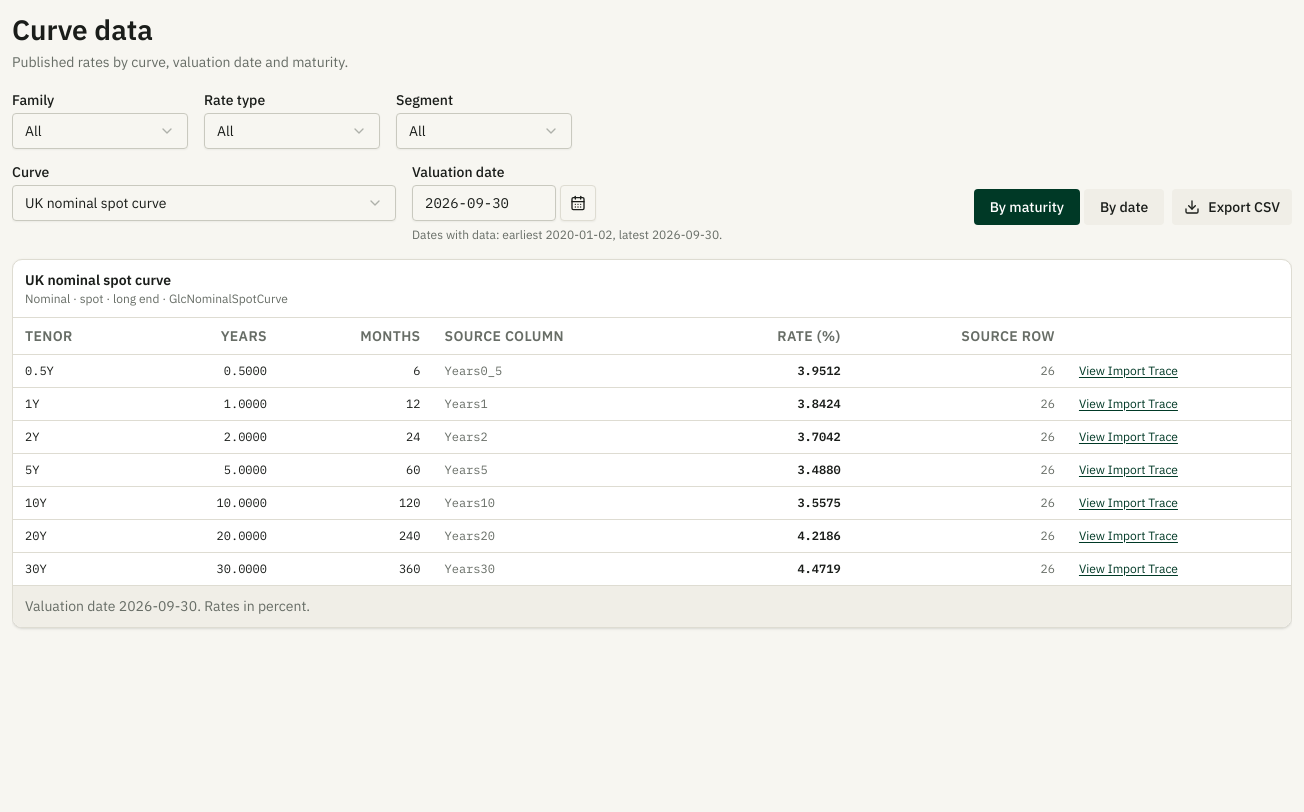
Epic curve-data, Story 1: Rates by maturity › shows "No data imported" with an empty rate list, not an error, for a date without data
This screenshot has width=1304, height=812.
Expected: the row "10Y 10.0000 120 Years10 3.5575 26 View Import Trace" is shown, [13,486,1291,519]
Replace the text in the field labelled "Valuation date" with "2026-09-27": coordinates (484, 203) [412,185,556,221]
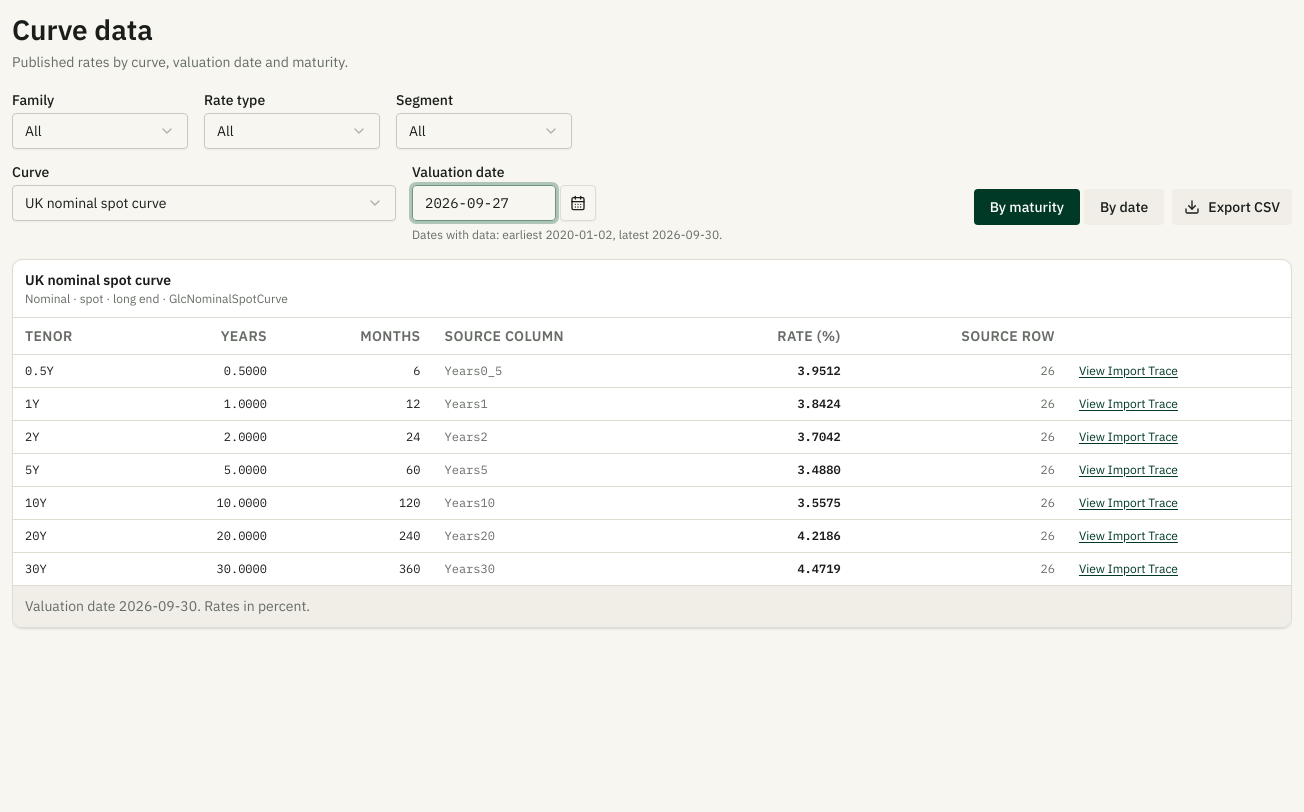
Press Tab
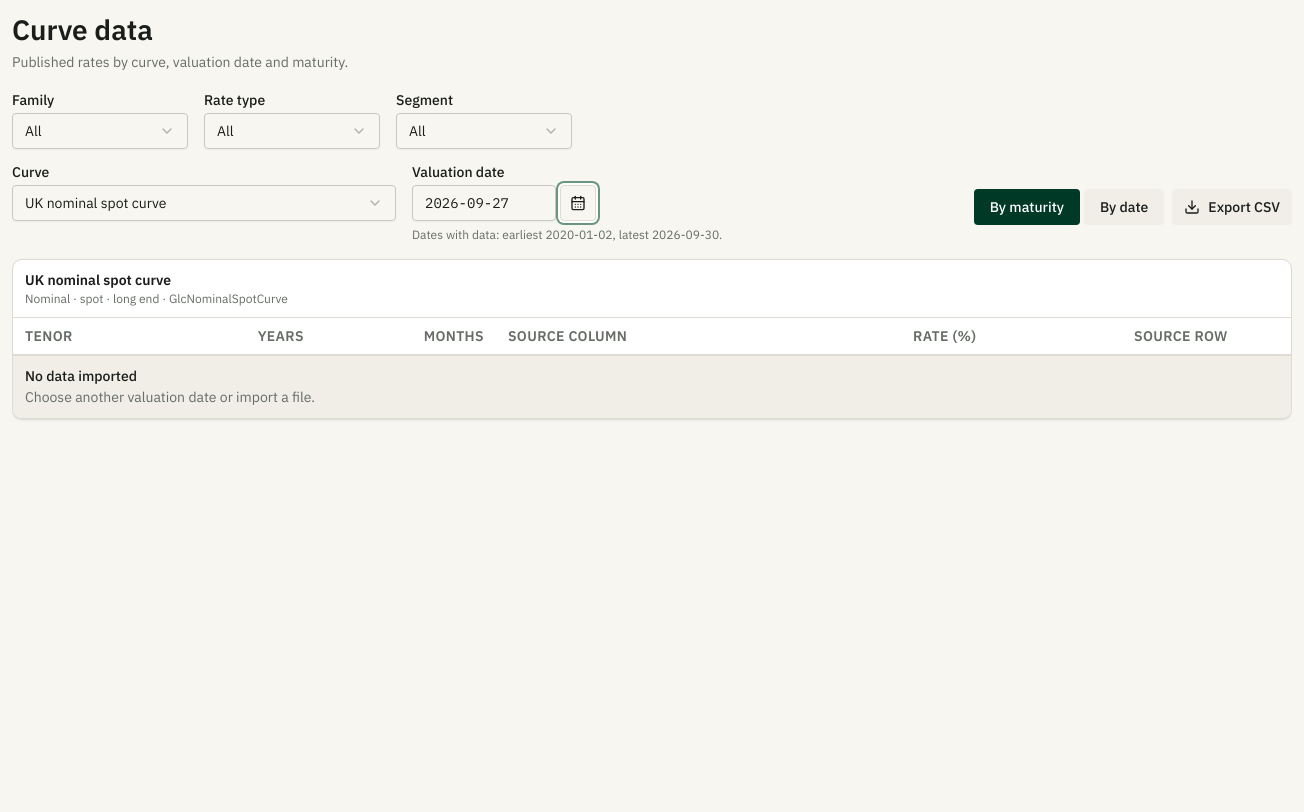
Expected: the text "No data imported" is shown, [25,366,137,384]
Expected: the text "Choose another valuation date or import a file." is shown, [25,388,315,406]
